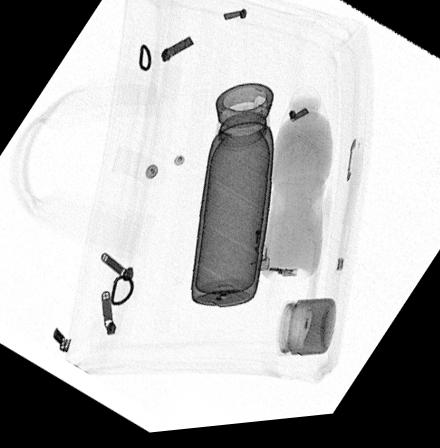Lighter: (246, 213, 270, 277)
